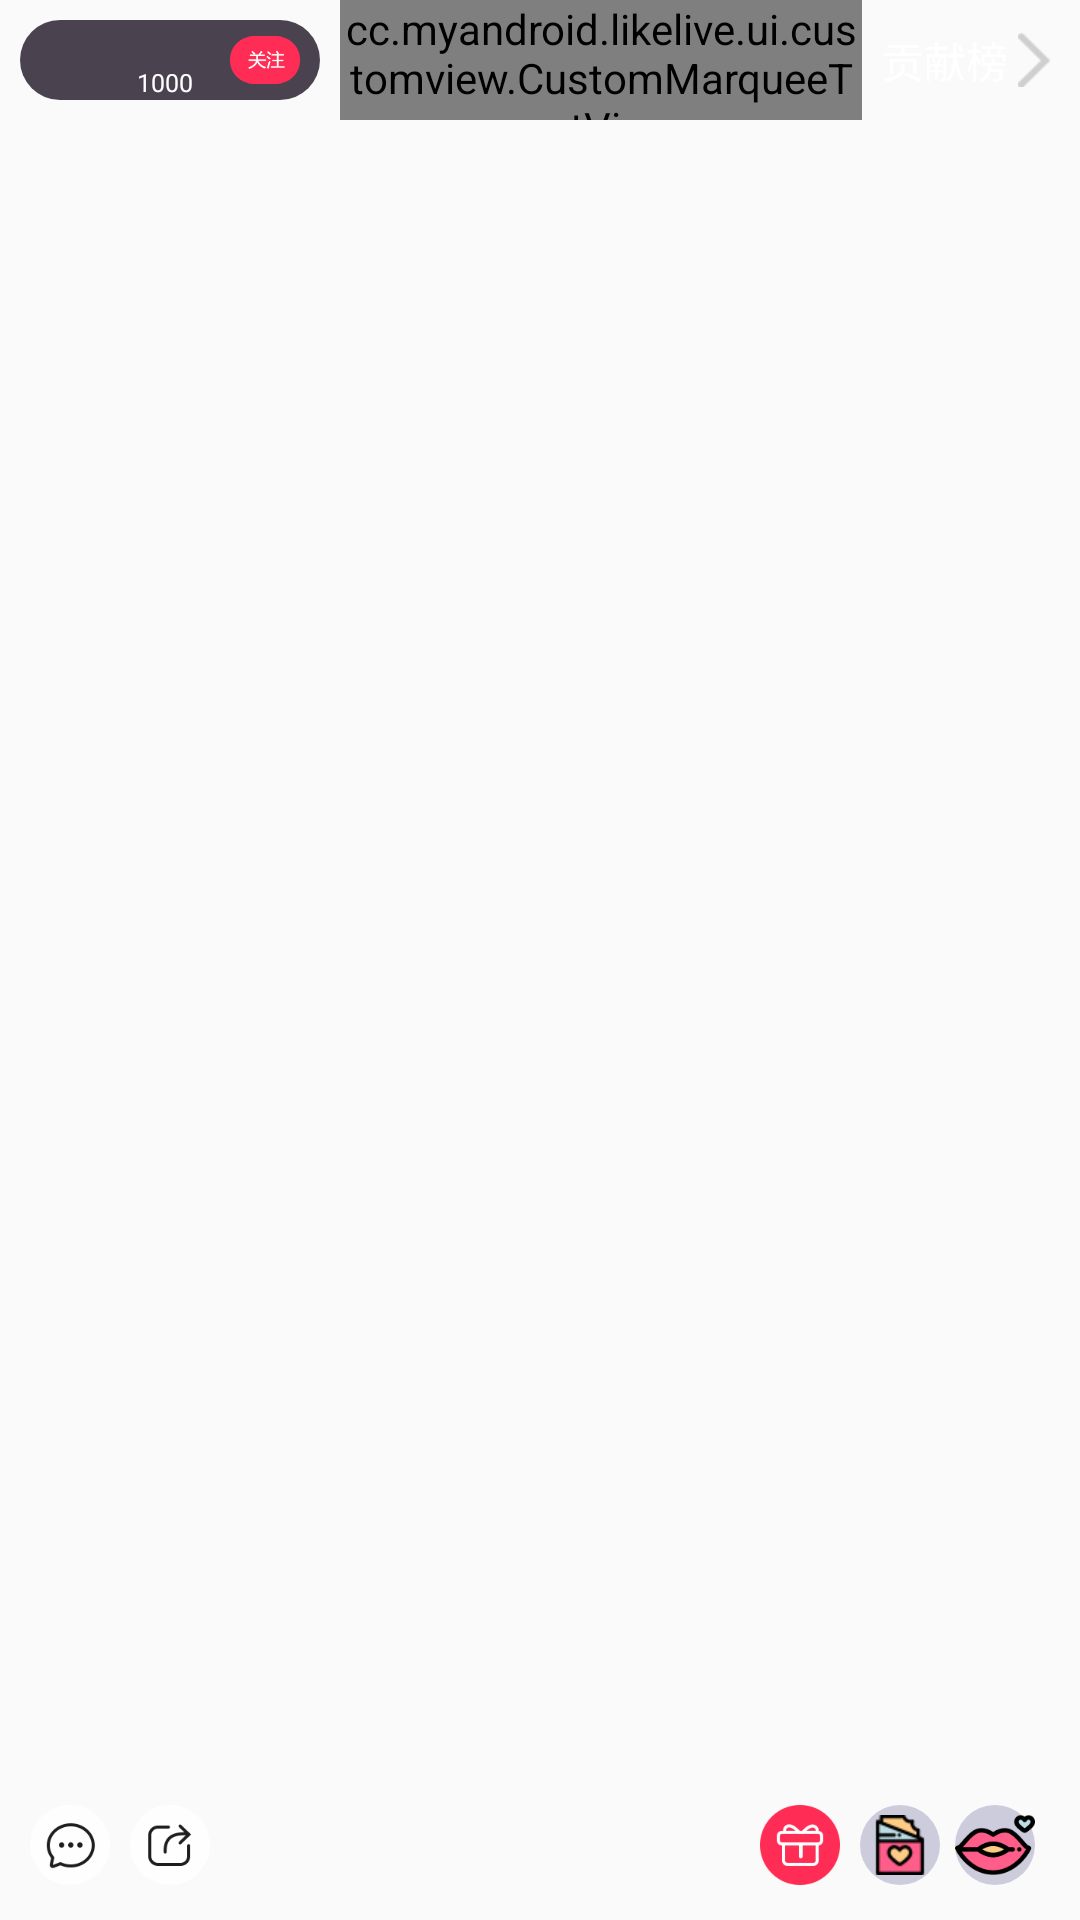

Icon click points for this 1080px×1920px phone screenshot, format [x,y]:
chocolate: [900,1845]
kiss: [995,1845]
room chat: [70,1845]
room gift entrance: [800,1845]
room share: [169,1845]
